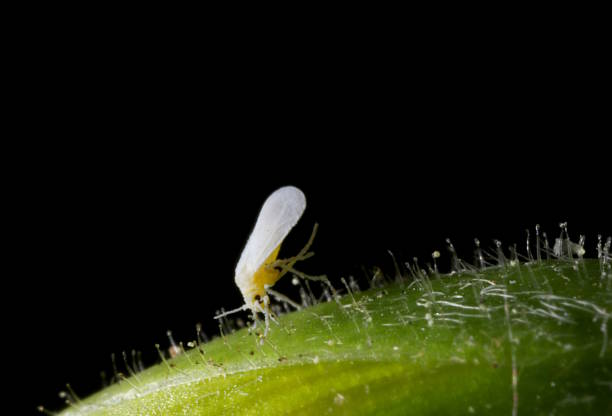Tobacco Whitefly: (216, 170, 339, 336)
